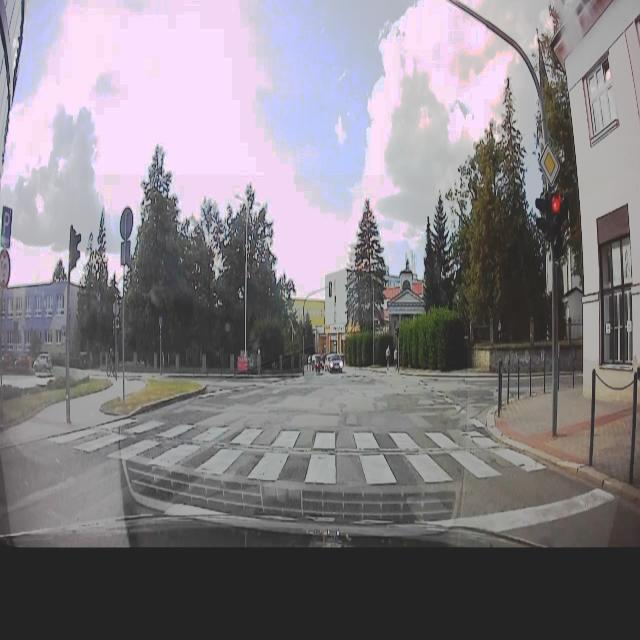Priority road: (538, 140, 560, 187)
